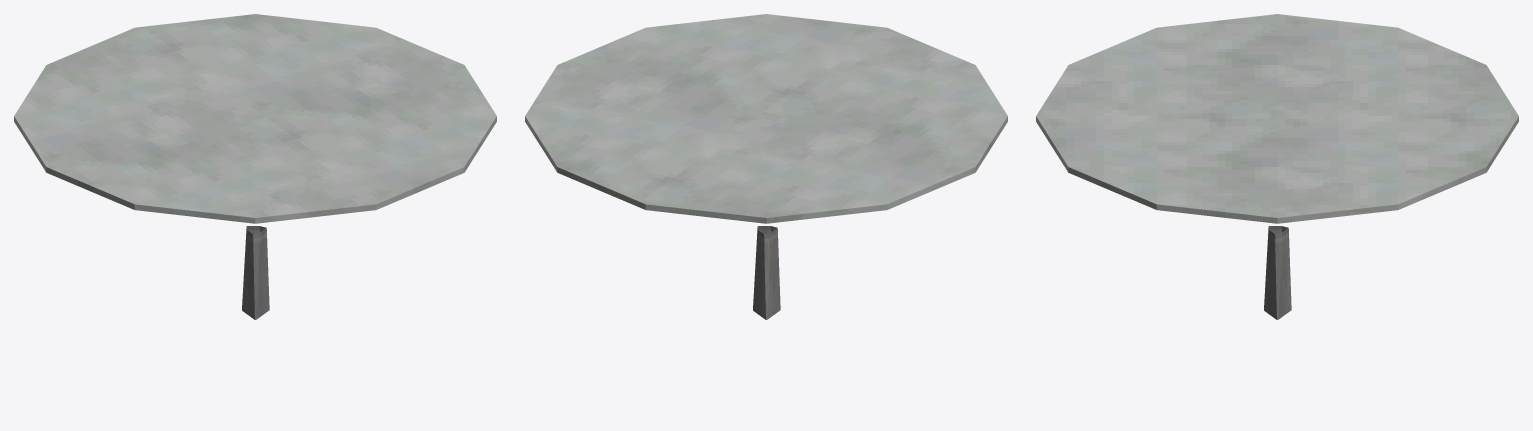
Rendered from frn_all_mdrn_table_s01_l2.fbx.
3 renders of one model, left to right at view 1: azimuth 30°, elevation 25°; view 2: azimuth 150°, elevation 25°; view 3: azimuth 270°, elevation 25°, orthographic.
Visible parts, largest first — view 1: mesh_node; view 2: mesh_node; view 3: mesh_node.
Boxes of the visible parts, x1,y1,x2,y2 form: mesh_node: (14,14,496,319); mesh_node: (525,14,1007,319); mesh_node: (1036,14,1518,319).
Size of the model in its own units: 1.52 by 0.89 by 1.52.
